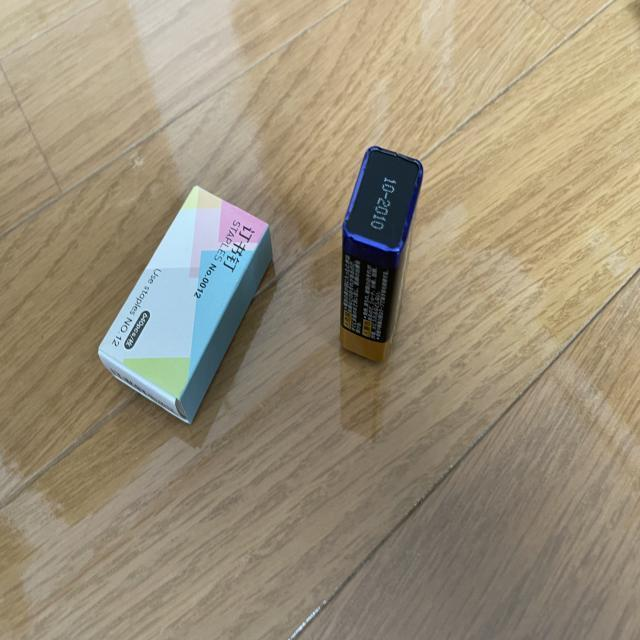9V: (338, 144, 425, 364)
